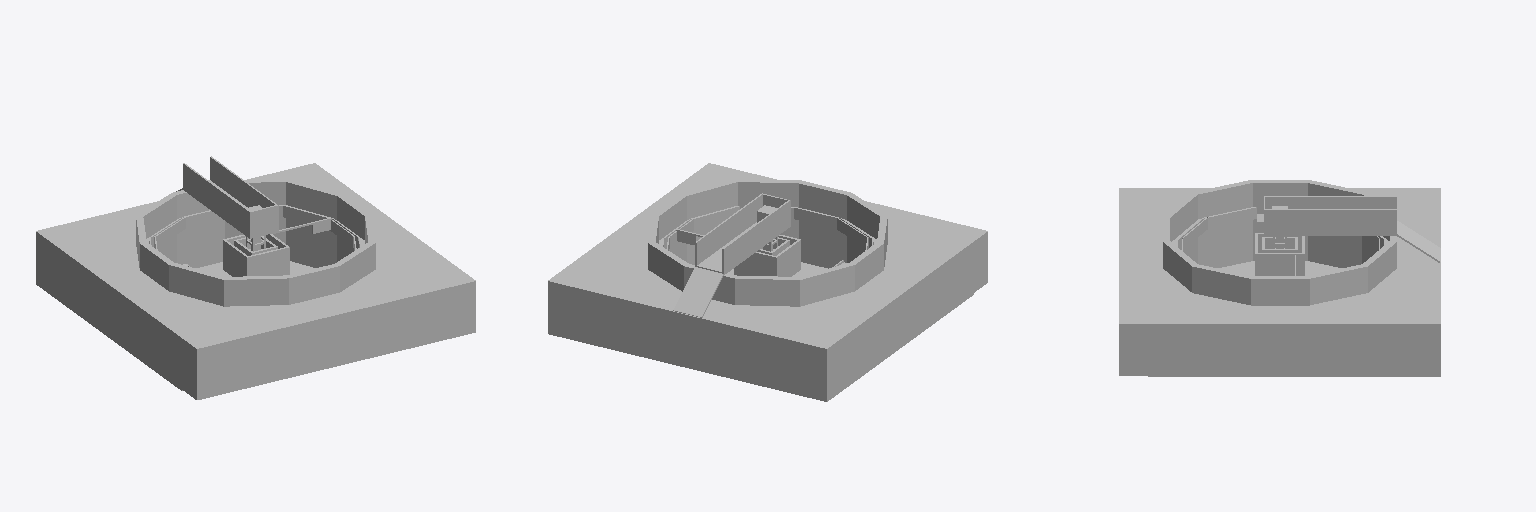
File: clarifier_mirrored_old.obj
3 renders of one model, left to right at view 1: azimuth 30°, elevation 25°; view 2: azimuth 150°, elevation 25°; view 3: azimuth 270°, elevation 25°, orthographic.
Parts seen in each view (by area): view 1: cube; view 2: cube; view 3: cube.
Part boxes in pixels (bbox=[...]): cube: bbox=[36, 156, 475, 399]; cube: bbox=[548, 163, 987, 401]; cube: bbox=[1119, 180, 1440, 376].
Bounding box in the file's own units: 11 × 4 × 11.